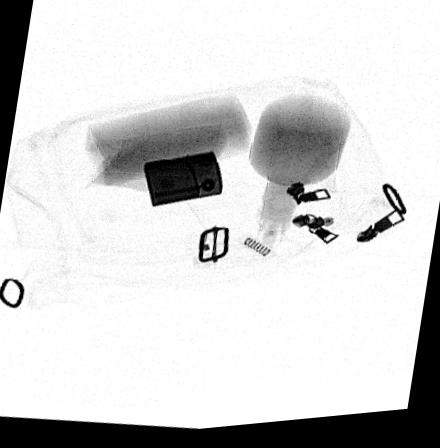Lighter: (141, 152, 223, 209)
